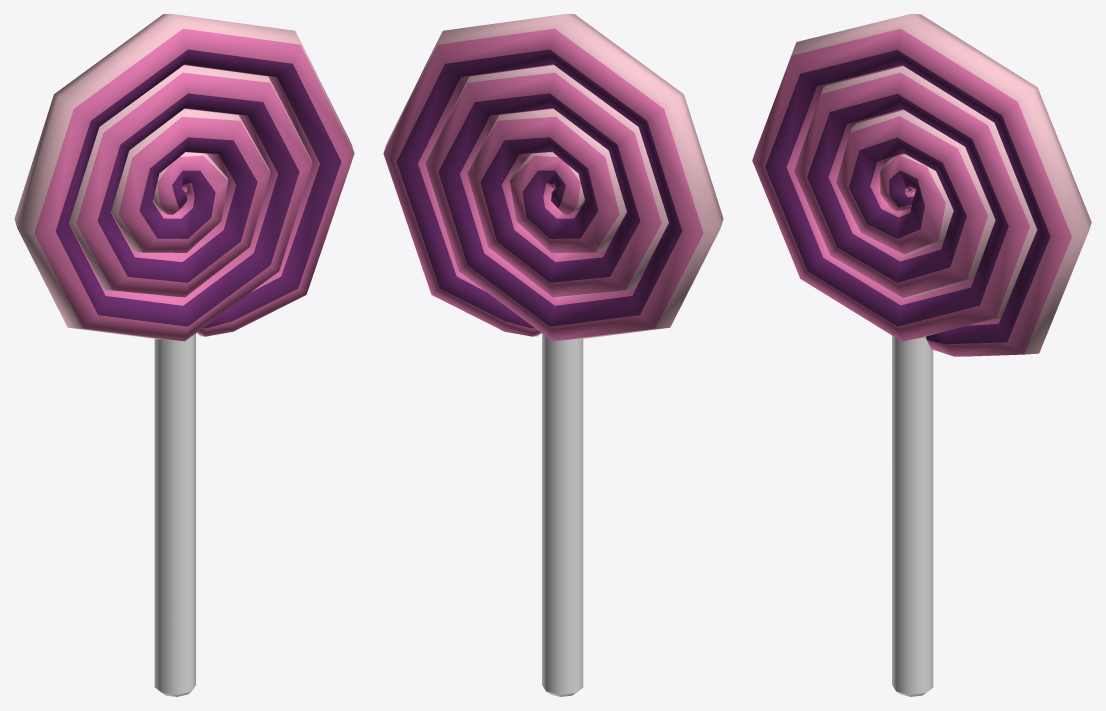
Rendered from Candy_5.fbx.
3 renders of one model, left to right at view 1: azimuth 30°, elevation 25°; view 2: azimuth 150°, elevation 25°; view 3: azimuth 330°, elevation 25°, orthographic.
Visible parts, largest first — view 1: Candy_5; view 2: Candy_5; view 3: Candy_5.
Part boxes in pixels (x1,y1,x2,y2): Candy_5: (14, 14, 354, 696); Candy_5: (383, 14, 723, 696); Candy_5: (752, 14, 1091, 696).
Size of the model in its own units: 1.76 by 3.41 by 0.2571.
